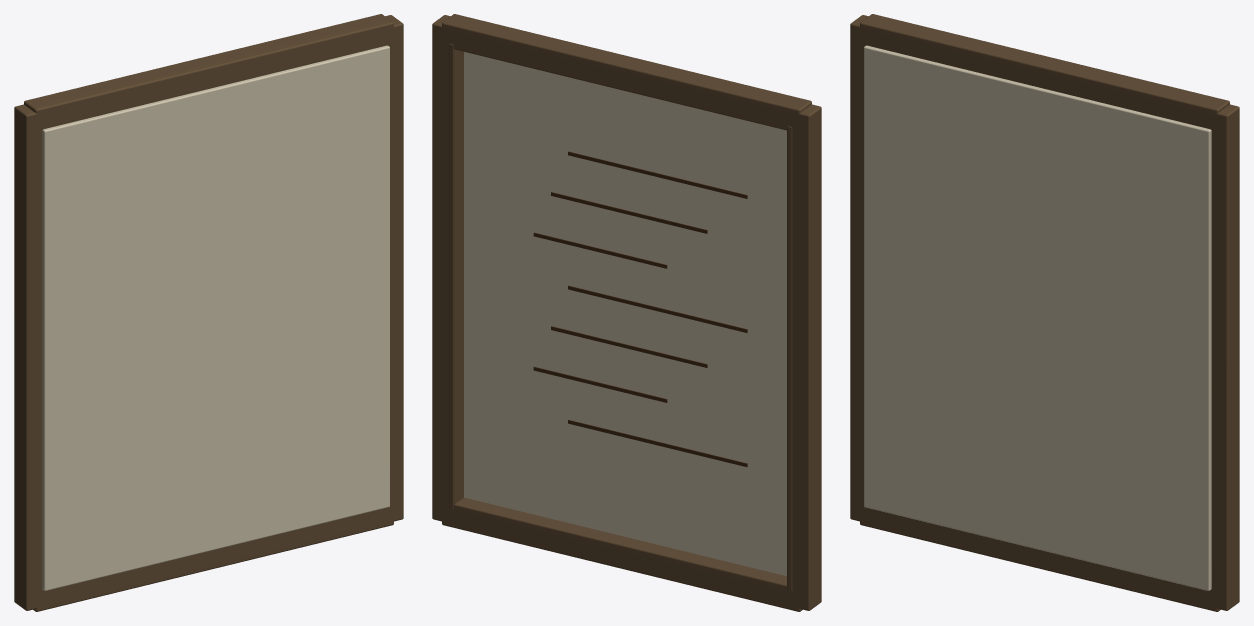
Rendered from classroom-photo-lod0.fbx.
3 views of the same model, side by side, from view 1: azimuth 30°, elevation 25°; view 2: azimuth 150°, elevation 25°; view 3: azimuth 330°, elevation 25° (orthographic).
Parts seen in each view (by area): view 1: Aged attendance backing paper, Eased photograph frame side, Eased photograph frame rail.001, Eased photograph frame side.001, Eased photograph frame rail; view 2: Aged attendance backing paper, Eased photograph frame side, Eased photograph frame side.001, Eased photograph frame rail.001, Eased photograph frame rail, Recessed inner photo frame bead, Recessed inner photo frame bead.001, Faded attendance charcoal mark.006, Faded attendance charcoal mark, Faded attendance charcoal mark.003, Faded attendance charcoal mark.001, Faded attendance charcoal mark.004 (+2 smaller); view 3: Aged attendance backing paper, Eased photograph frame side.001, Eased photograph frame rail.001, Eased photograph frame side, Eased photograph frame rail.
Boxes of the visible parts, x1,y1,x2,y2 form: Aged attendance backing paper: [42, 45, 389, 590]; Eased photograph frame side: [14, 104, 47, 610]; Eased photograph frame rail.001: [24, 14, 393, 131]; Eased photograph frame side.001: [382, 15, 403, 522]; Eased photograph frame rail: [33, 509, 393, 611]; Aged attendance backing paper: [464, 52, 786, 576]; Eased photograph frame side: [787, 104, 821, 610]; Eased photograph frame side.001: [432, 15, 463, 521]; Eased photograph frame rail.001: [442, 14, 811, 130]; Eased photograph frame rail: [442, 497, 802, 611]; Recessed inner photo frame bead: [787, 126, 792, 591]; Recessed inner photo frame bead.001: [449, 43, 453, 509]; Faded attendance charcoal mark.006: [568, 420, 747, 467]; Faded attendance charcoal mark: [568, 151, 747, 198]; Faded attendance charcoal mark.003: [568, 285, 747, 332]; Faded attendance charcoal mark.001: [551, 192, 707, 233]; Faded attendance charcoal mark.004: [551, 326, 707, 367]; Aged attendance backing paper: [864, 45, 1211, 590]; Eased photograph frame side.001: [1206, 104, 1239, 610]; Eased photograph frame rail.001: [860, 14, 1229, 131]; Eased photograph frame side: [850, 15, 871, 522]; Eased photograph frame rail: [860, 509, 1220, 611].
Bounding box in the file's own units: 88.5 × 113 × 6.2.
